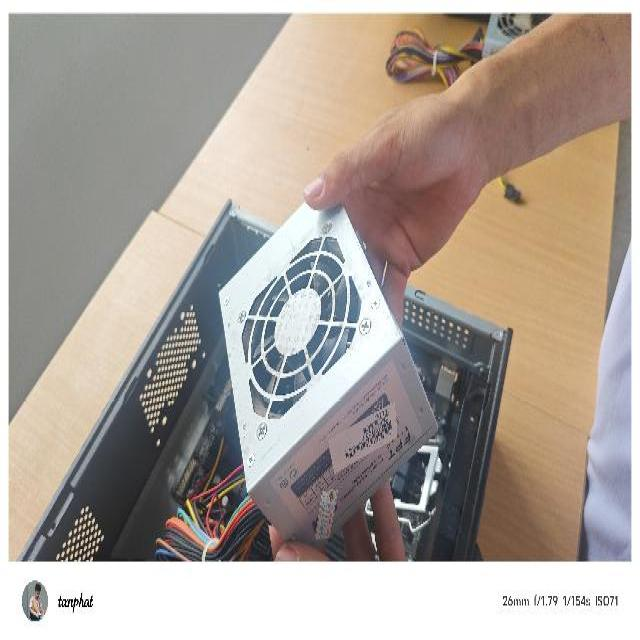PSU: (216, 186, 439, 551)
